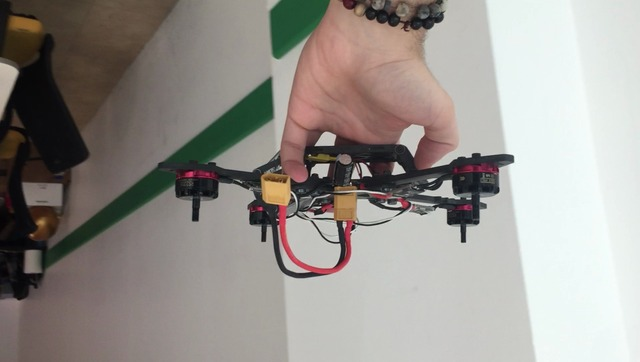drone: (158, 147, 515, 279)
